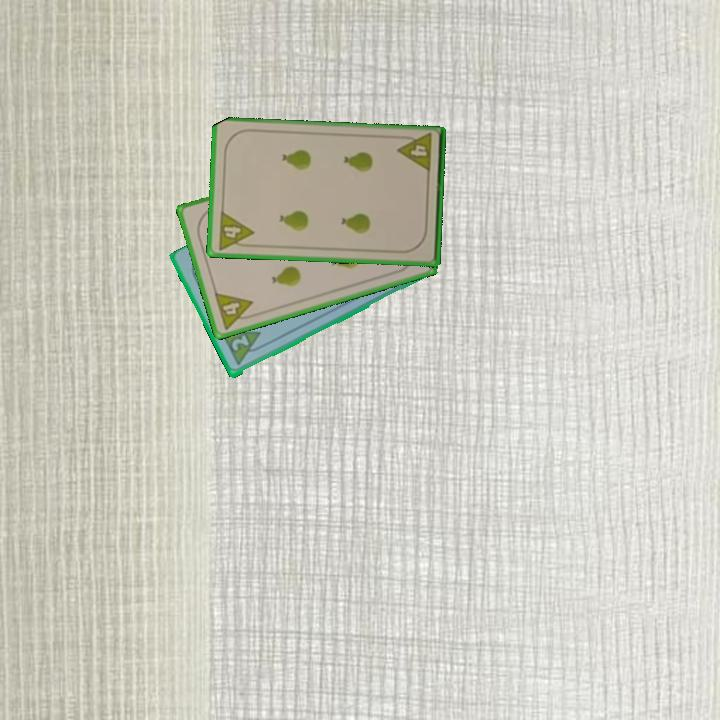2p: (217, 327, 269, 369)
4p: (211, 289, 259, 332), (214, 208, 256, 253), (395, 131, 435, 176)
